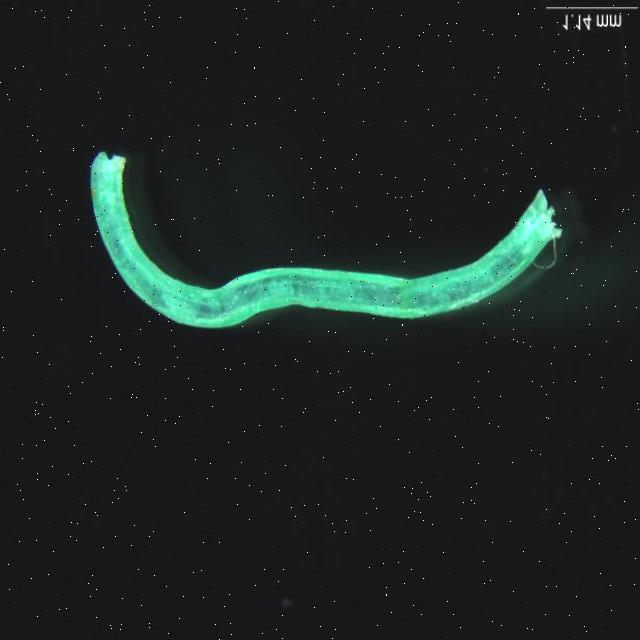Fibre: (77, 138, 576, 336)
